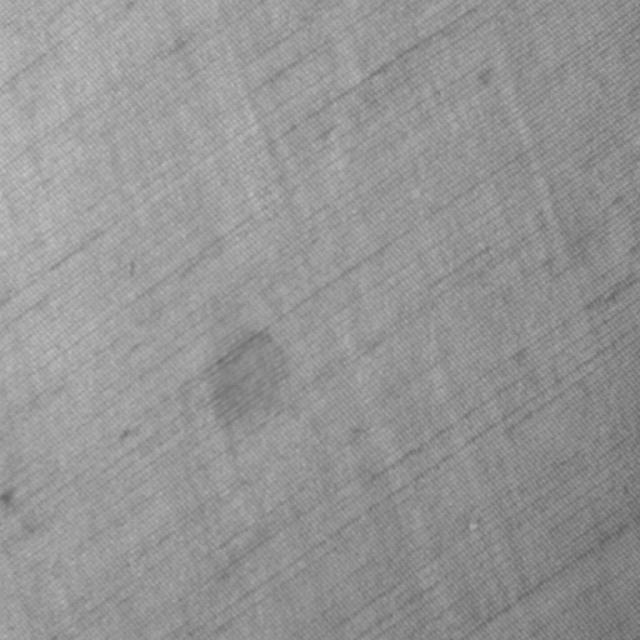oil spot: (200, 322, 295, 443)
